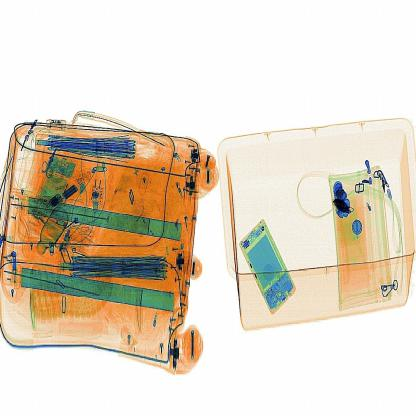scissors: (327, 190, 359, 226)
